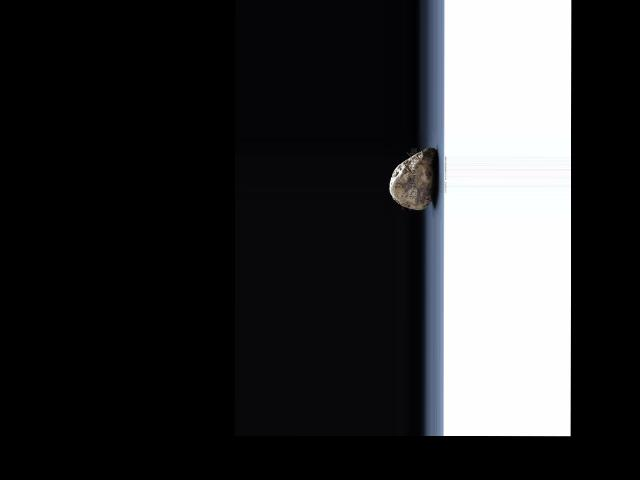beet: (390, 148, 436, 211)
